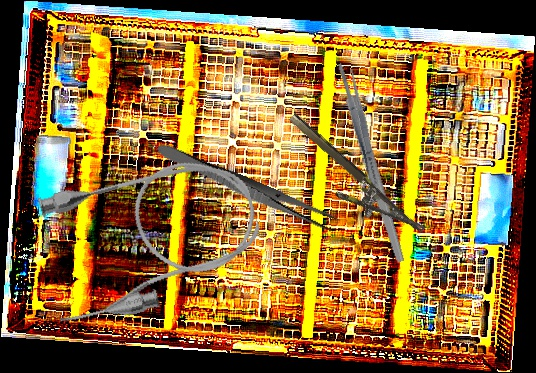Cannula: (26, 141, 273, 335)
Dressing Forceps: (152, 140, 342, 236), (338, 67, 384, 189)
Needle Holder: (272, 111, 426, 255)
Scalpel Handle: (334, 61, 407, 264)
